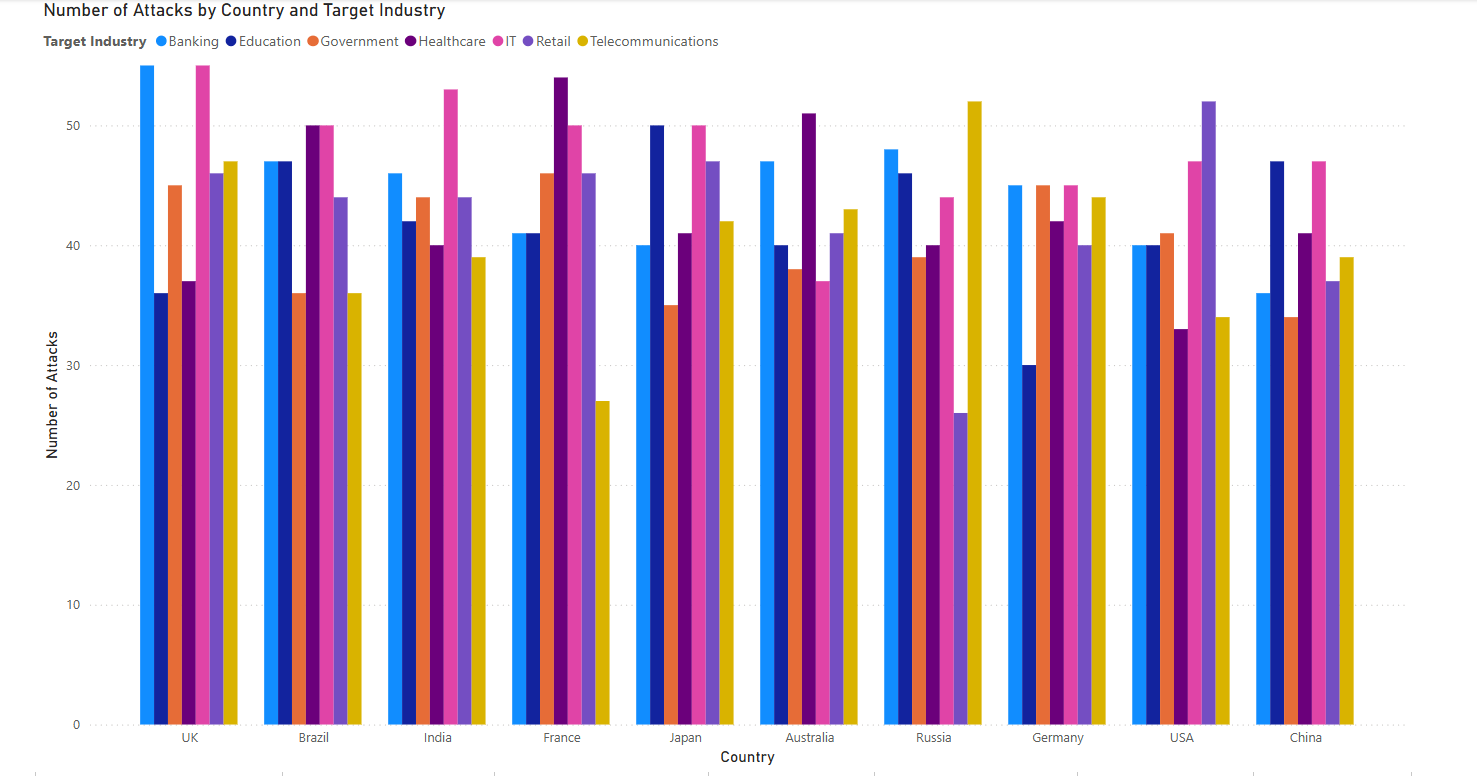

What the dashboard file says about the page in this screenshot:
{"tool":"powerbi","page":{"name":"Industries by Country","canvas":[1280,720],"ordinal":8},"visuals":[{"type":"clusteredColumnChart","fields":{"Category":["Global_Cybersecurity_Threats_2015-2024.Country"],"Series":["Global_Cybersecurity_Threats_2015-2024.Target Industry"],"Y":["CountNonNull(Global_Cybersecurity_Threats_2015-2024.Attack Type)"]},"box":[0,0,1280,720],"z":0}]}

Visuals, with their boxes on the page's 1280x720 design canvas (x1, y1, x2, y2). These are canvas units, not pixel positions in the 1477x776 screenshot, which may show the page scaled, cropped or inside an application window:
clusteredColumnChart - Global_Cybersecurity_Threats_2015-2024.Country x Global_Cybersecurity_Threats_2015-2024.Target Industry: <box>0,0,1280,720</box>
